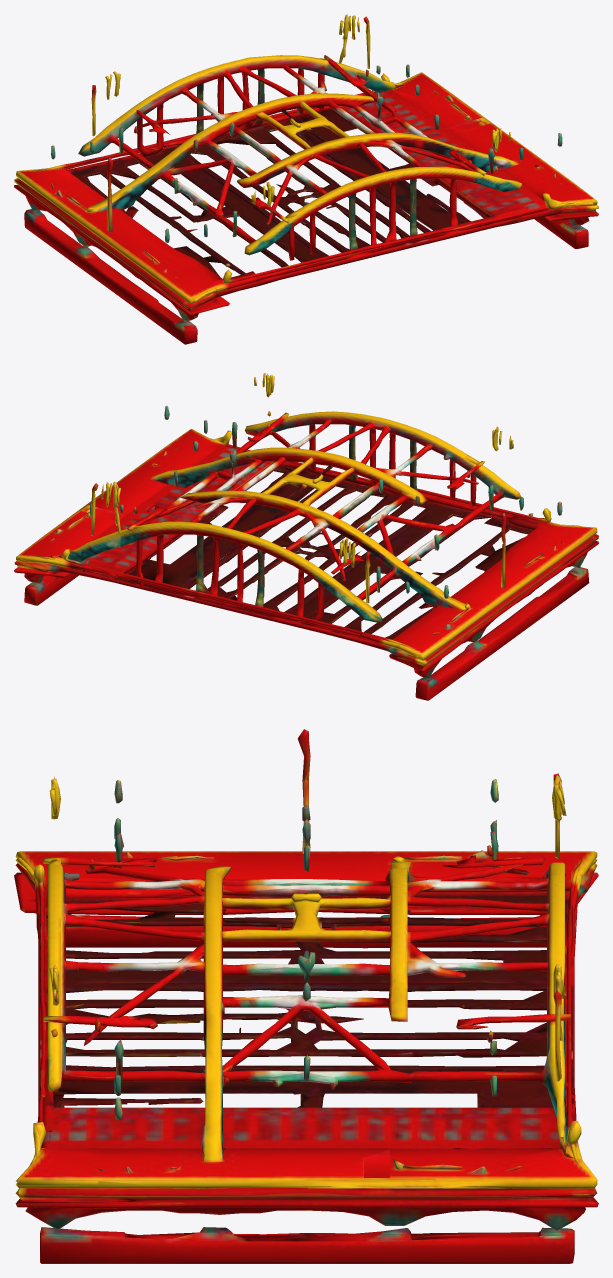
File: bridge_1.glb
3 views of the same model, one above another, from view 1: azimuth 30°, elevation 25°; view 2: azimuth 150°, elevation 25°; view 3: azimuth 270°, elevation 25° (orthographic). The views are drawn at different scales.
Bounding box in the file's own units: 1.91 × 0.6145 × 1.41.
Materials: 1 (1 with a texture image).
